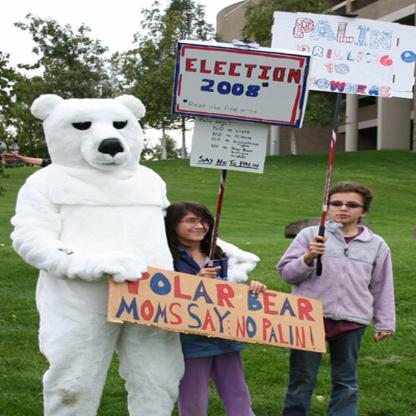face: (175, 209, 210, 241), (330, 191, 363, 224)
